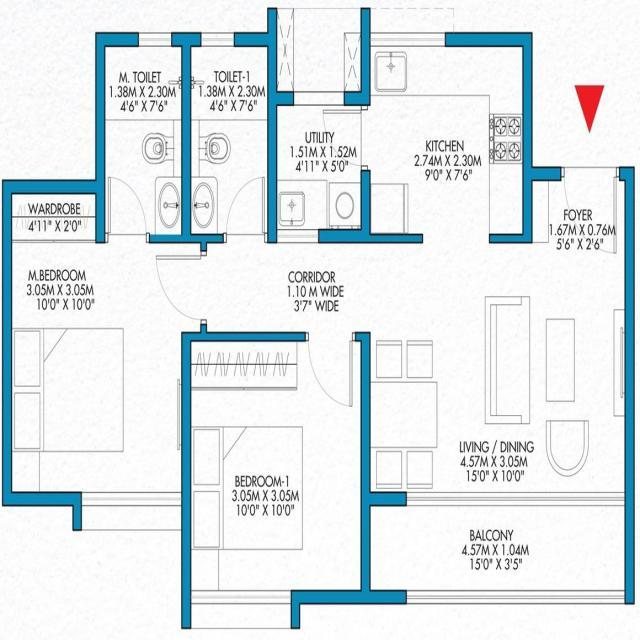Balcony-Sitout: (371, 505, 626, 593)
Bedroom: (185, 334, 370, 595)
Bedroom with Toilet: (6, 36, 204, 499)
Dining: (369, 332, 446, 494)
Enterance-Foyer: (527, 170, 633, 243)
Kitchen: (363, 37, 531, 241)
Living: (476, 239, 640, 498)
Toilet: (184, 38, 277, 237), (98, 35, 183, 240)
Utility: (268, 91, 370, 242)
